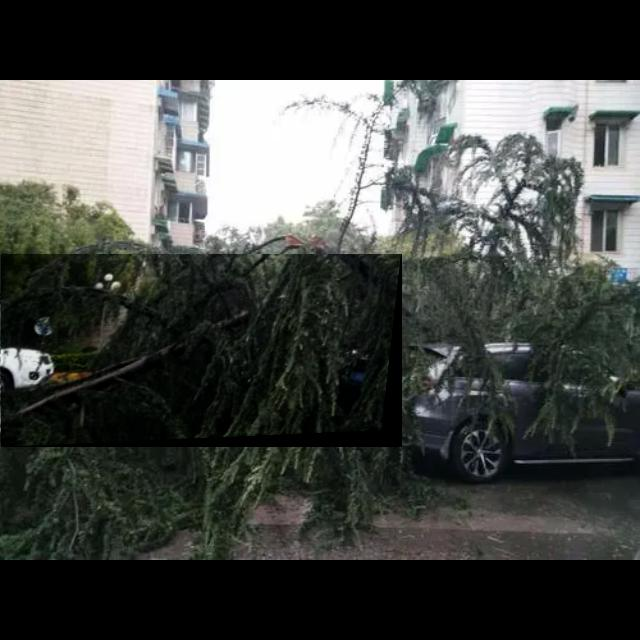Fallen Tree: (1, 254, 403, 448)
